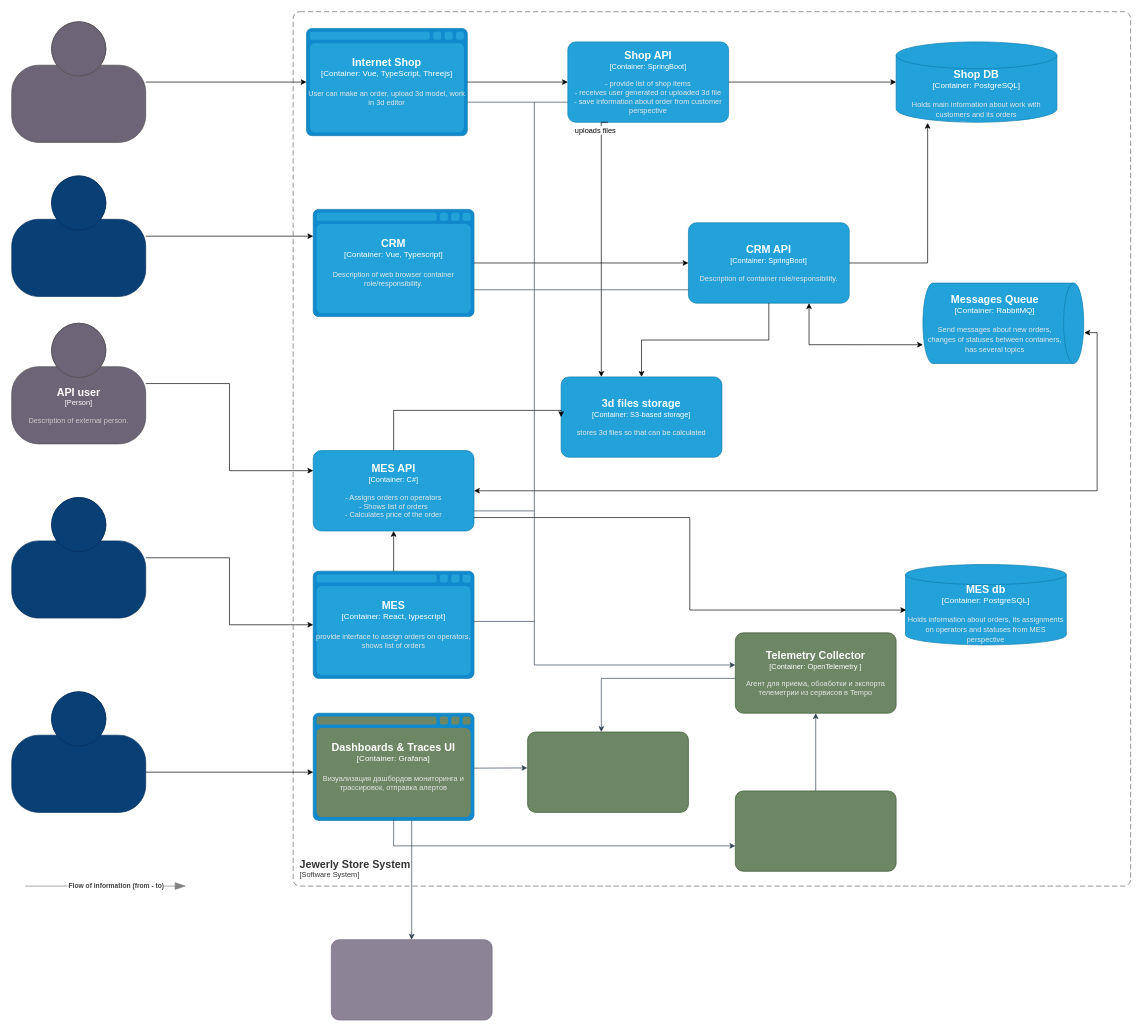
Some shapes in this 1142 by 1032 pixel diagram are drawn without their labels. Each missing label, with the centre of its shape:
"Customer [Person] Description of external person." goes at (x=78, y=81).
"Monitoring System [Container: Prometheus] Собирает и хранит метрики" goes at (x=815, y=830).
"Notification Service [Telegramm/Email] Корпоративная система обмена сообщениями." goes at (x=411, y=979).
"Operator [Person] Takes order in work, manufactures jewerly" goes at (x=78, y=557).
"Seller [Person] Operates with order, confirms manufacturing for the user" goes at (x=78, y=235).
"SRE [Person] Uses monitoring system health, manages incidents" goes at (x=78, y=751).
"Telemetry Storage [Container: Tempo] Хранение и индексация телеметрии" goes at (x=607, y=771).
